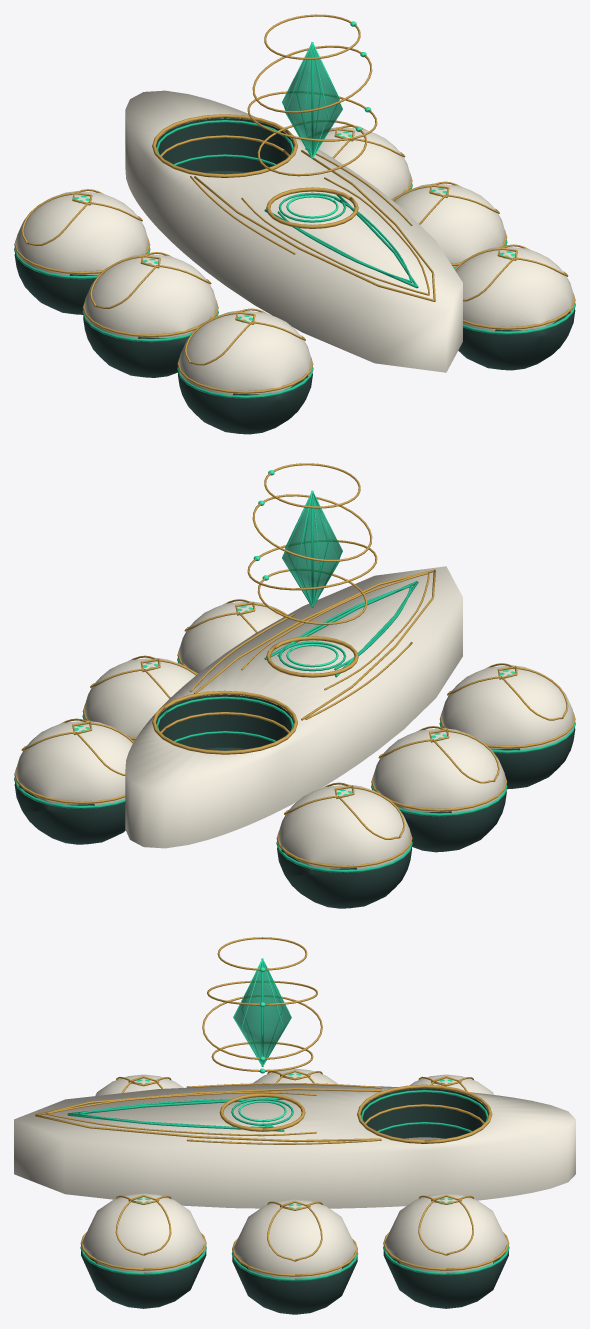
Rendered from NEA0401_concept.obj.
3 views of the same model, one above another, from view 1: azimuth 30°, elevation 25°; view 2: azimuth 150°, elevation 25°; view 3: azimuth 270°, elevation 25° (orthographic). The views are drawn at different scales.
Parts seen in each view (by area): view 1: Hull, Crystal, Ring3, Ring2, Ring4, Ring1; view 2: Hull, Crystal, Ring3, Ring2, Ring1, Ring4; view 3: Hull, Crystal, Ring2, Ring3, Ring4, Ring1.
Boxes of the visible parts, bbox=[...] form: Hull: bbox=[14, 90, 575, 434]; Crystal: bbox=[282, 42, 342, 158]; Ring3: bbox=[252, 45, 372, 113]; Ring2: bbox=[247, 91, 377, 141]; Ring4: bbox=[264, 14, 360, 59]; Ring1: bbox=[257, 120, 366, 176]; Hull: bbox=[14, 566, 575, 908]; Crystal: bbox=[282, 490, 342, 607]; Ring3: bbox=[252, 494, 372, 561]; Ring2: bbox=[247, 540, 377, 590]; Ring1: bbox=[257, 569, 366, 624]; Ring4: bbox=[264, 463, 360, 508]; Hull: bbox=[14, 1068, 575, 1314]; Crystal: bbox=[233, 958, 291, 1066]; Ring2: bbox=[202, 995, 322, 1061]; Ring3: bbox=[207, 980, 317, 1007]; Ring4: bbox=[217, 937, 307, 972]; Ring1: bbox=[211, 1042, 313, 1073].
Size of the model in its own units: 40.32 by 30 by 52.
